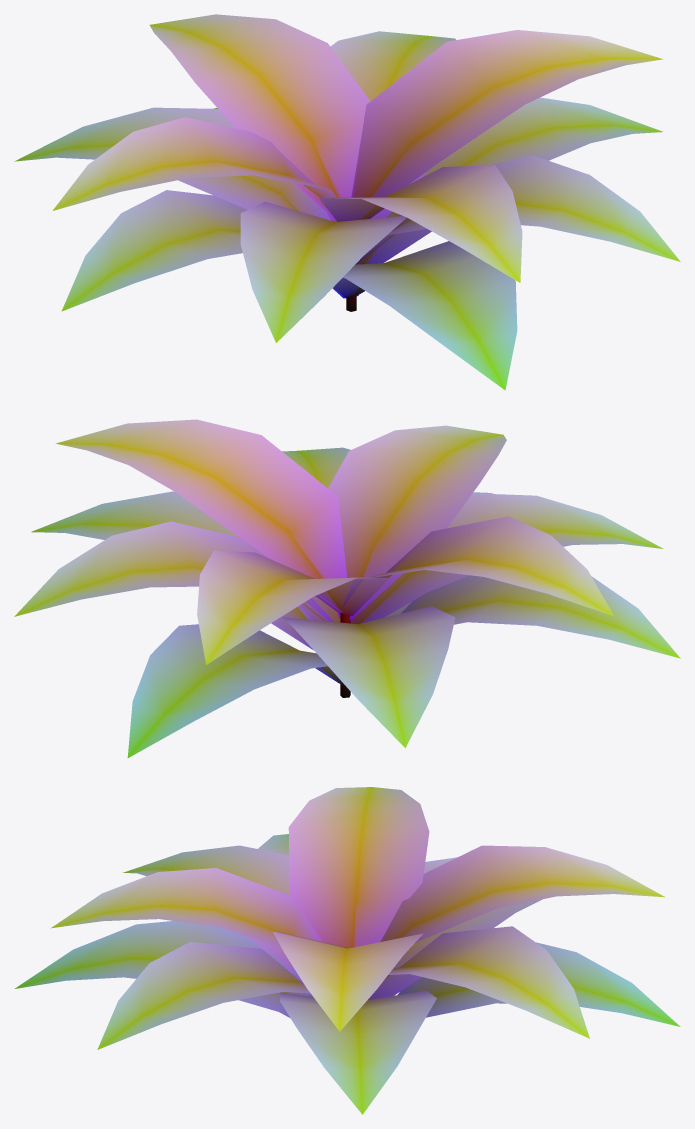
File: Fern_A1_02.fbx
3 renders of one model, top to bottom at view 1: azimuth 30°, elevation 25°; view 2: azimuth 150°, elevation 25°; view 3: azimuth 270°, elevation 25°, orthographic. The views are drawn at different scales.
Visible parts, largest first — view 1: Fern_A1_02_LOD0; view 2: Fern_A1_02_LOD0; view 3: Fern_A1_02_LOD0.
Boxes of the visible parts, x1,y1,x2,y2 form: Fern_A1_02_LOD0: (14, 14, 680, 390); Fern_A1_02_LOD0: (14, 419, 680, 757); Fern_A1_02_LOD0: (15, 787, 680, 1114).
Size of what is drawn, in the model's own units: 2.96 by 0.9387 by 2.96.
